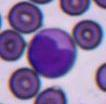M: (27, 27, 76, 78)
